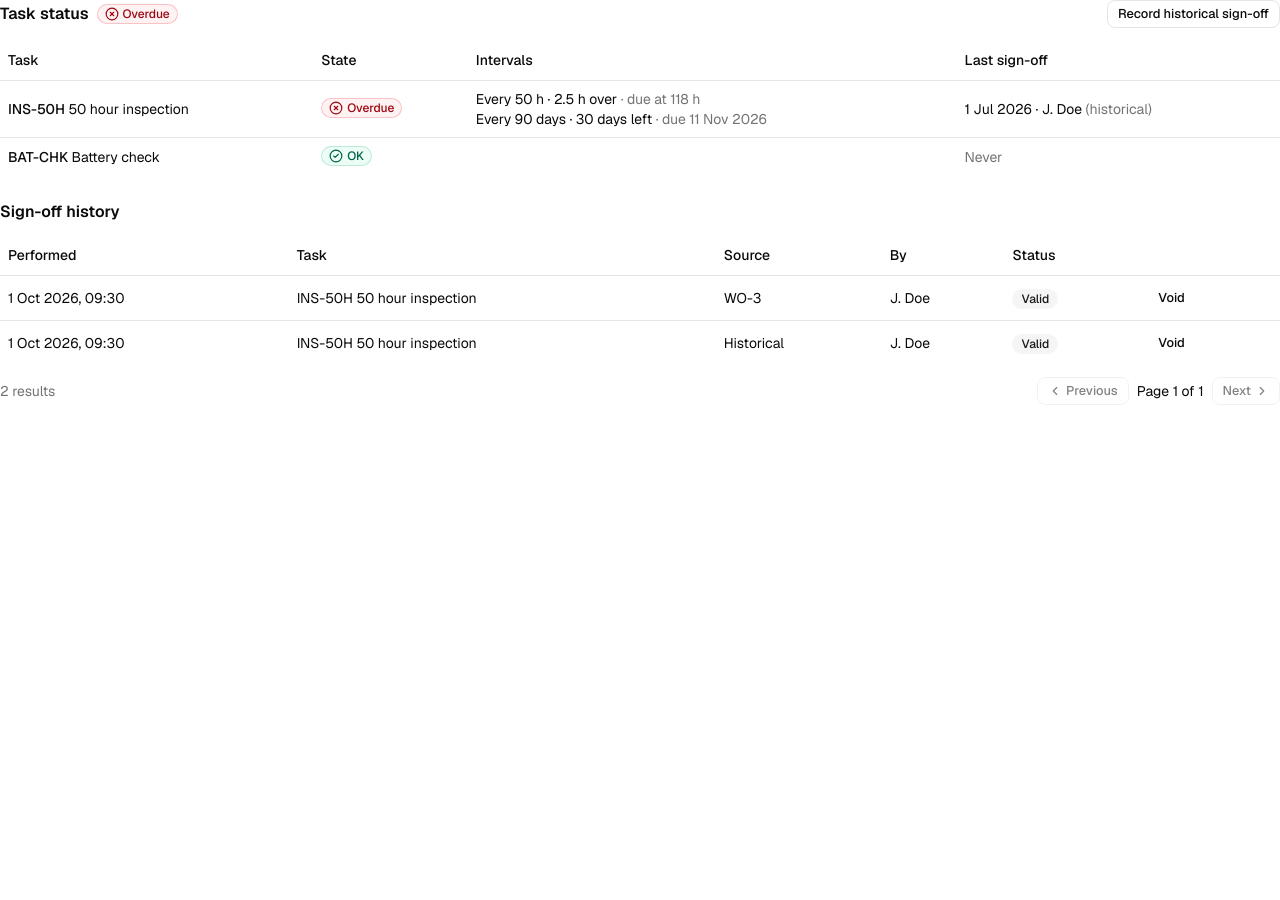
AircraftMaintenance › historical sign-off › submits the sign-off as UTC and refreshes maintenance data
Click the button "Record historical sign-off". click: [1194, 14]
box: left=1107, top=0, right=1279, bottom=28
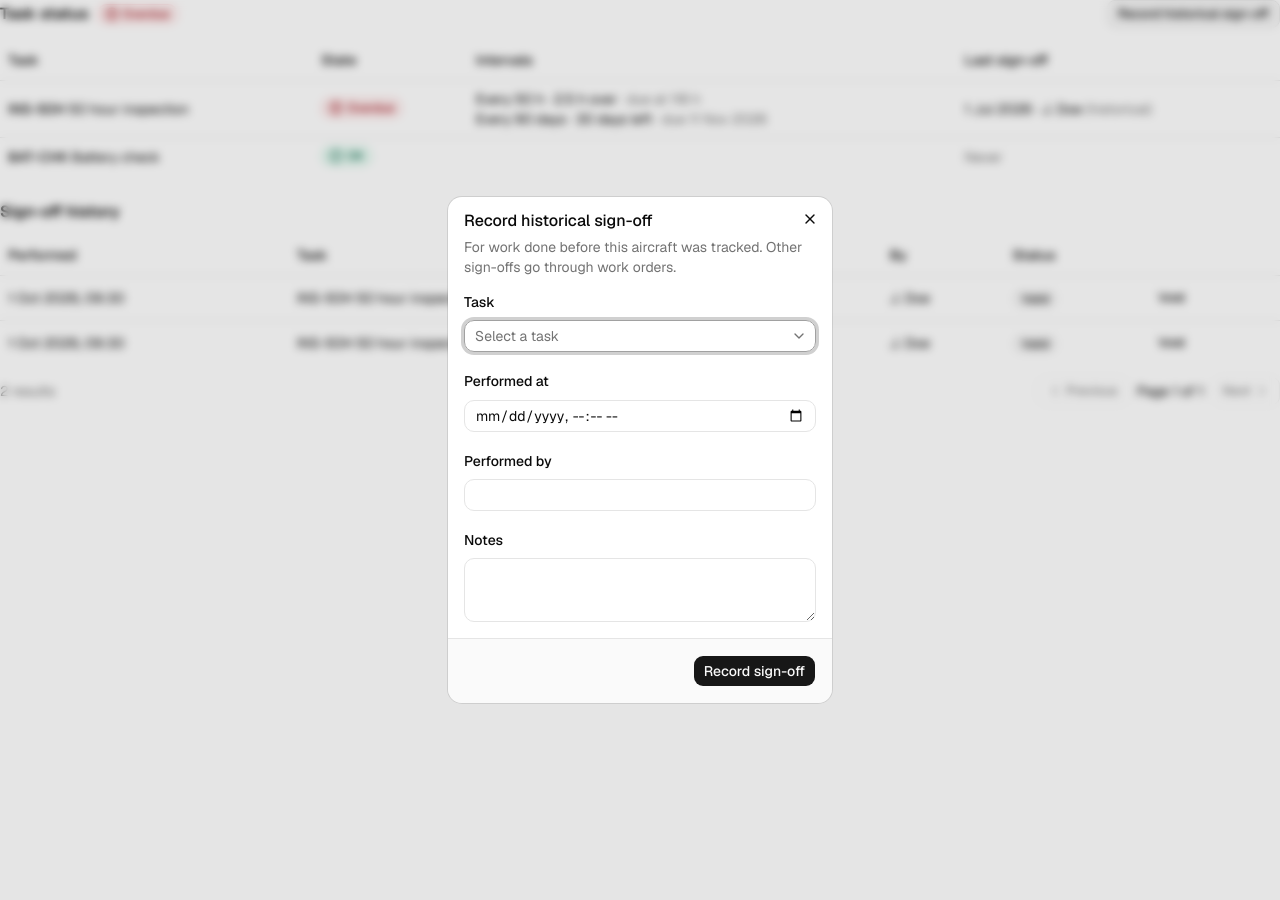
Click the dropdown. click: [517, 336]
box: left=464, top=320, right=816, bottom=352
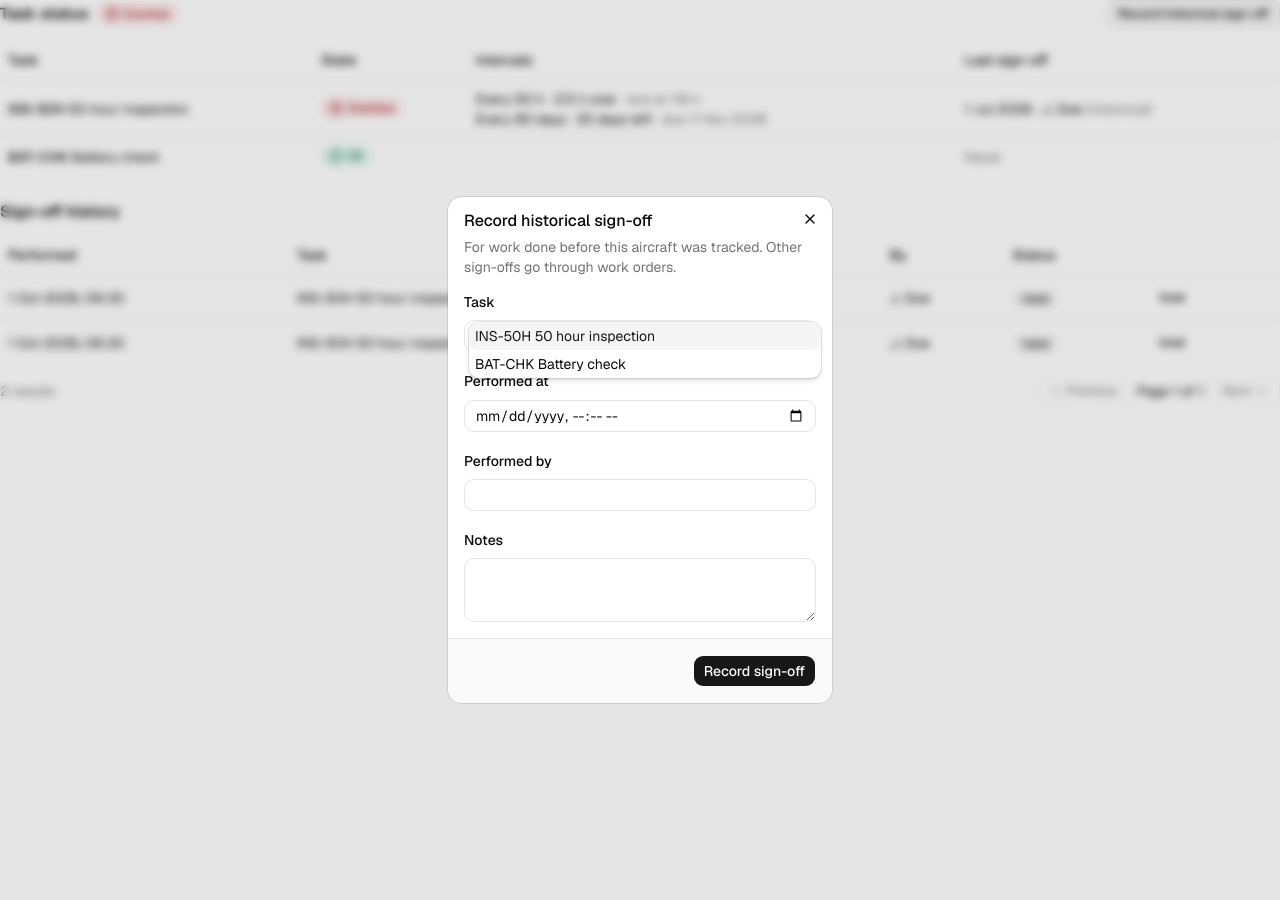
Click the option "BAT-CHK Battery check". click: [551, 364]
box: left=475, top=355, right=626, bottom=373
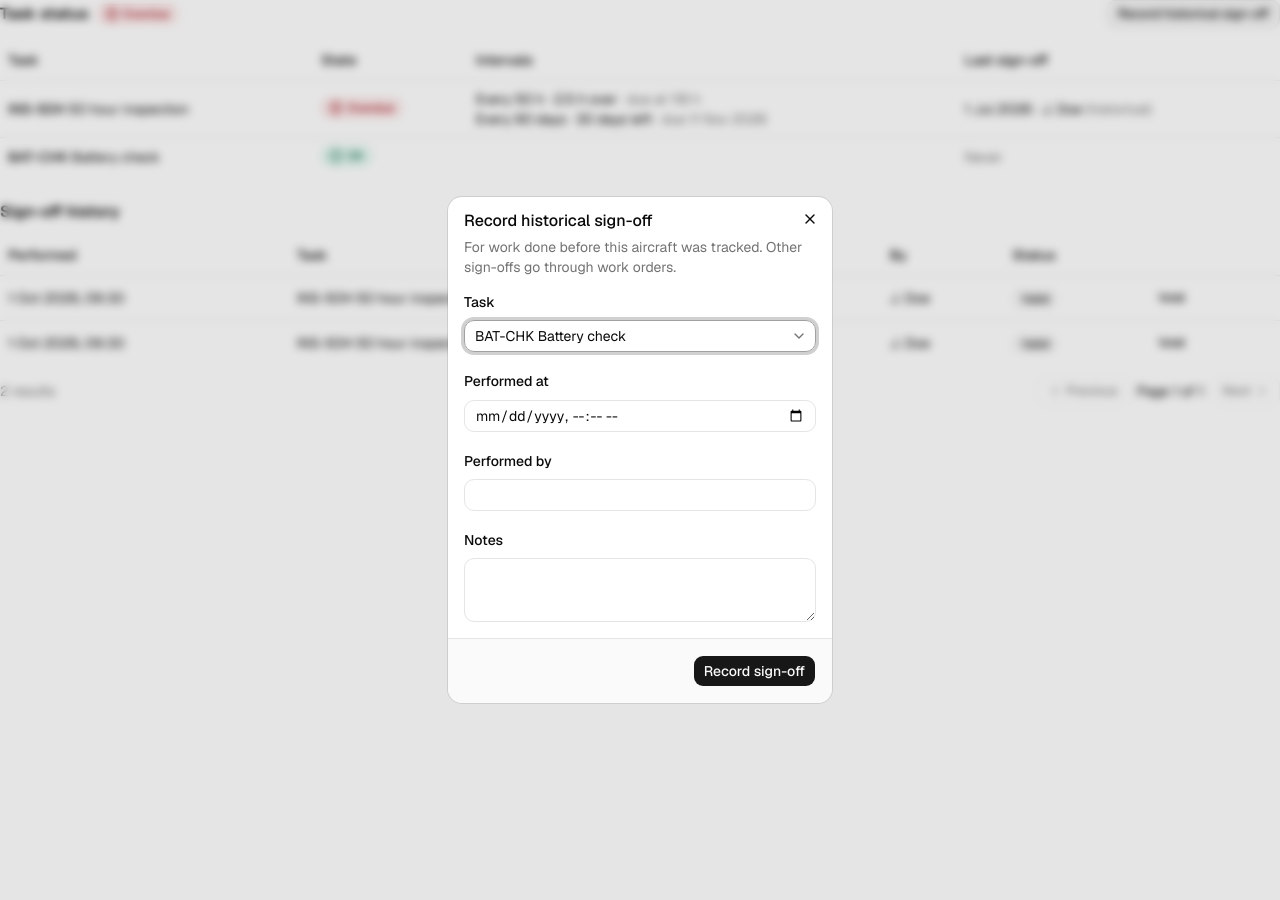
Type "2026-06-01T10:30" into the field labelled "Performed at". click: [640, 416]
box: left=464, top=400, right=816, bottom=432
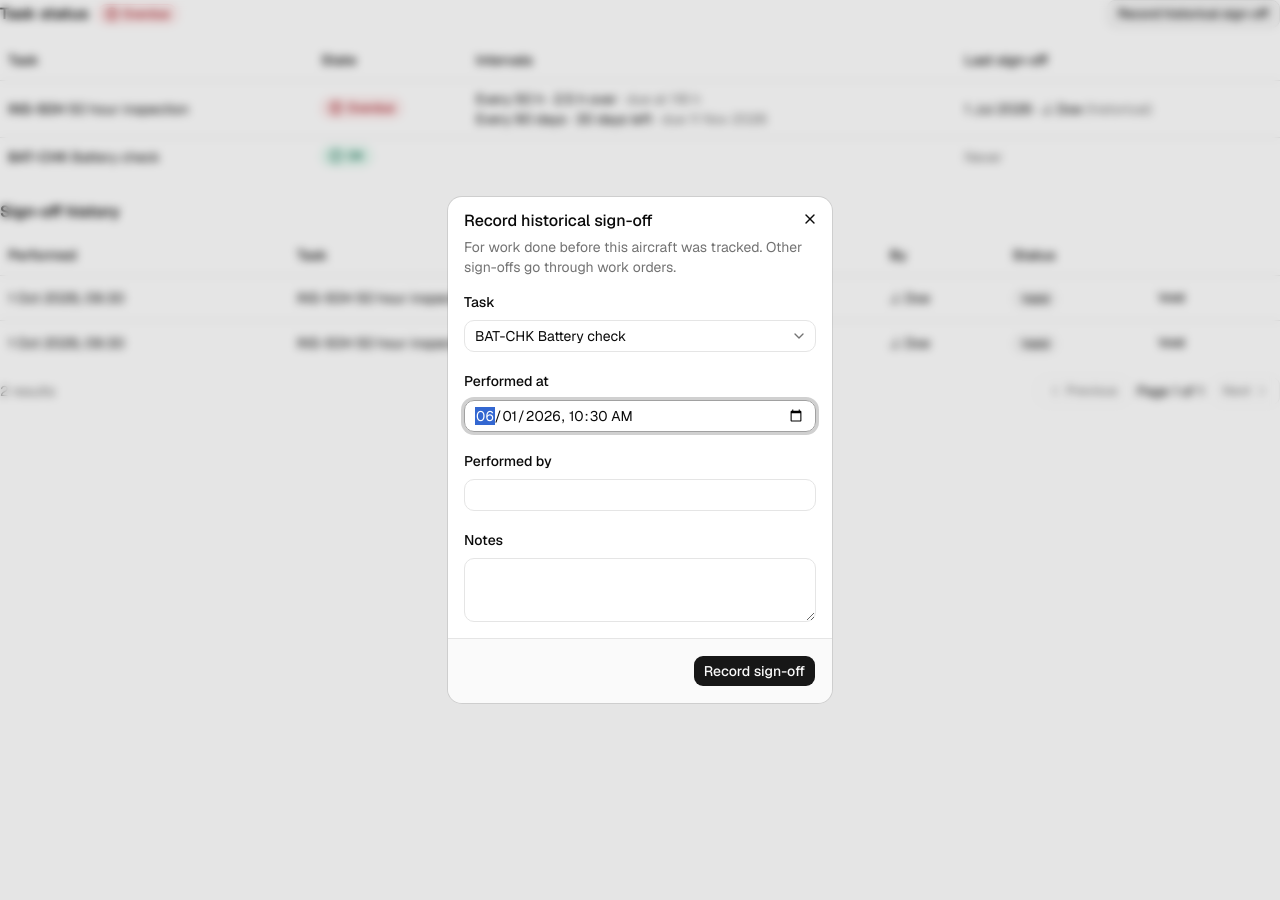
Type "  A. Tech " into the field labelled "Performed by". click: [640, 495]
box: left=464, top=479, right=816, bottom=511
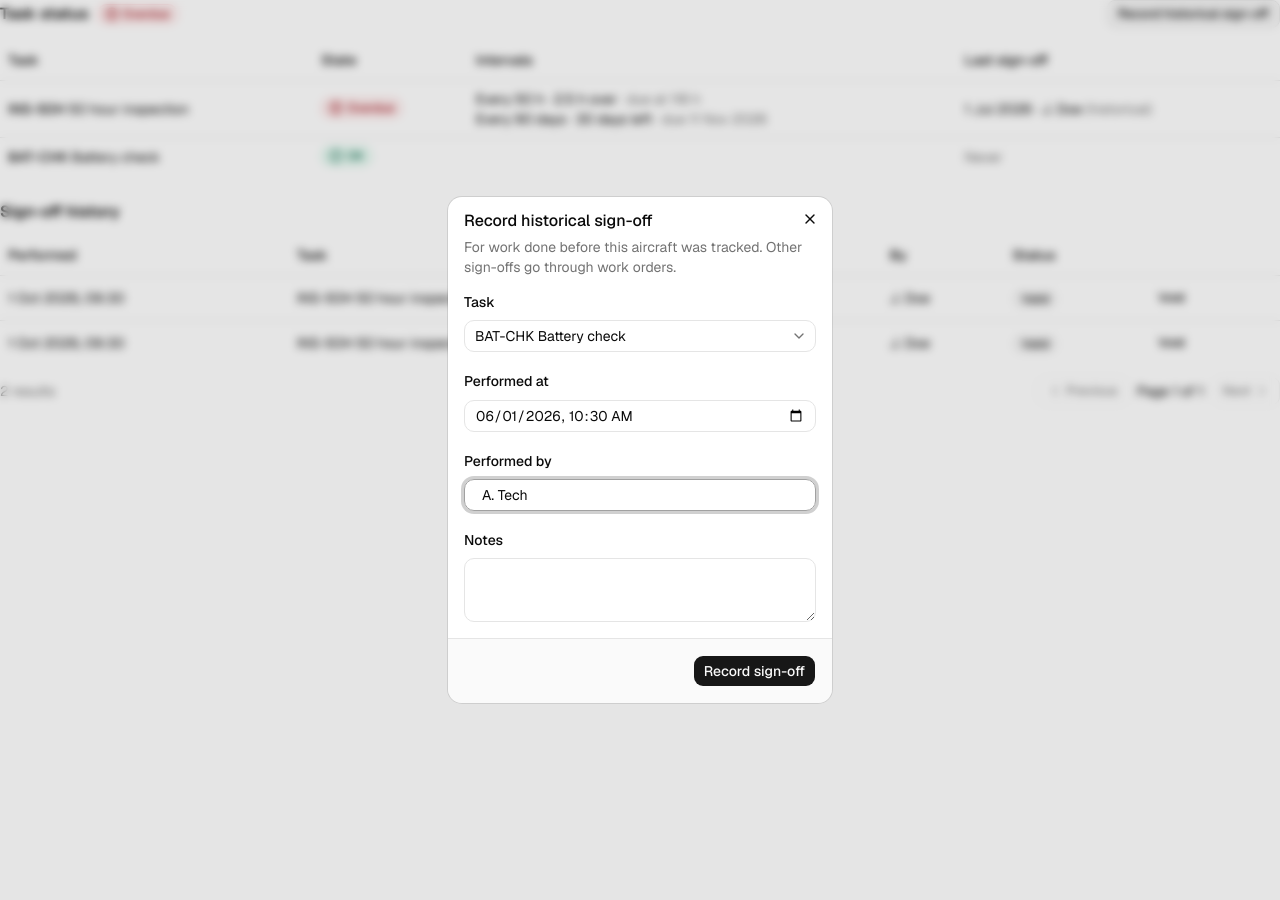
Click the button "Record sign-off". click: [754, 671]
box: left=693, top=655, right=816, bottom=687
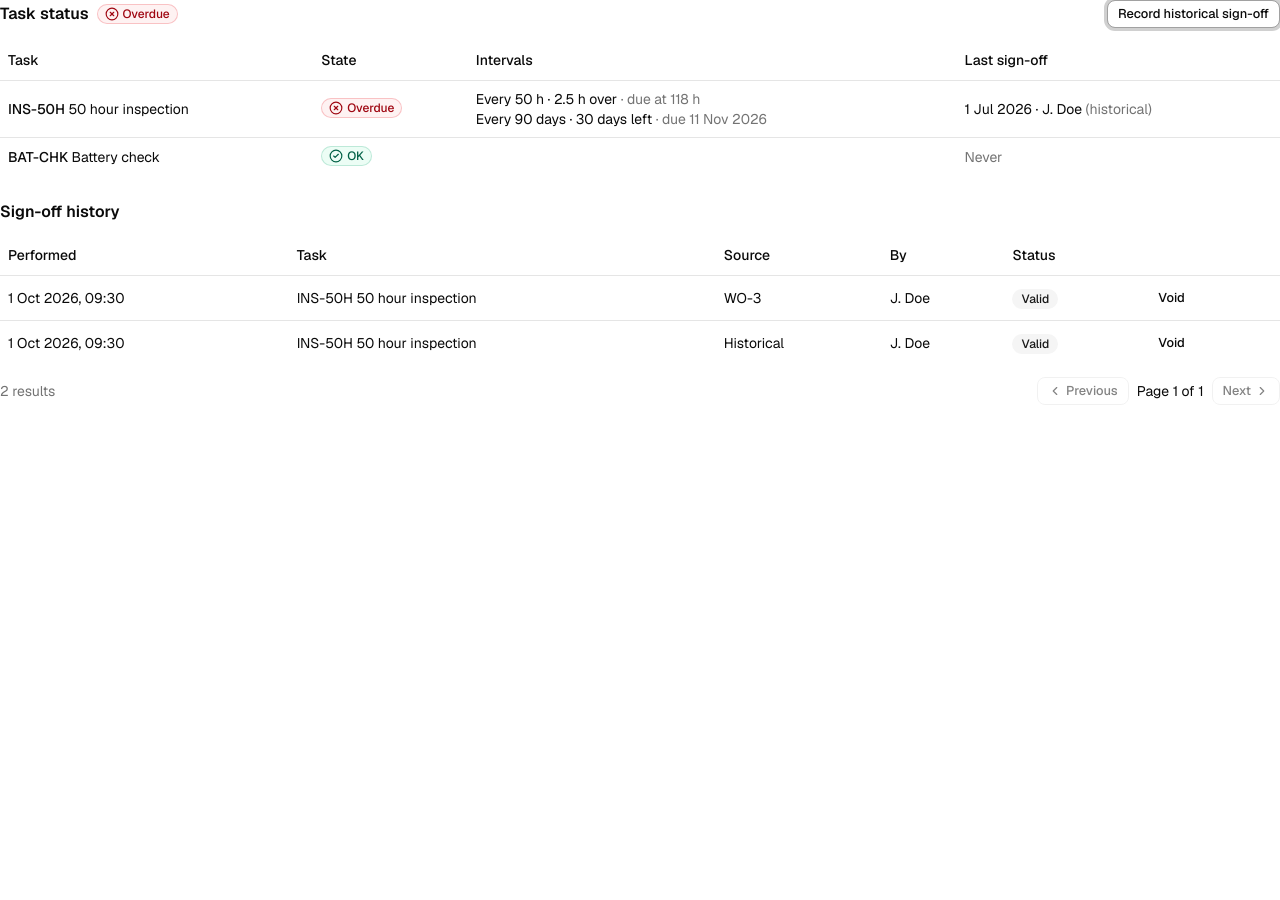
Check: the dialog is gone
